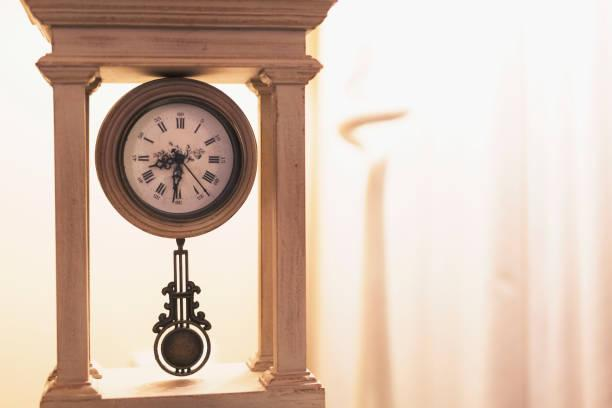clock: (95, 78, 260, 240)
